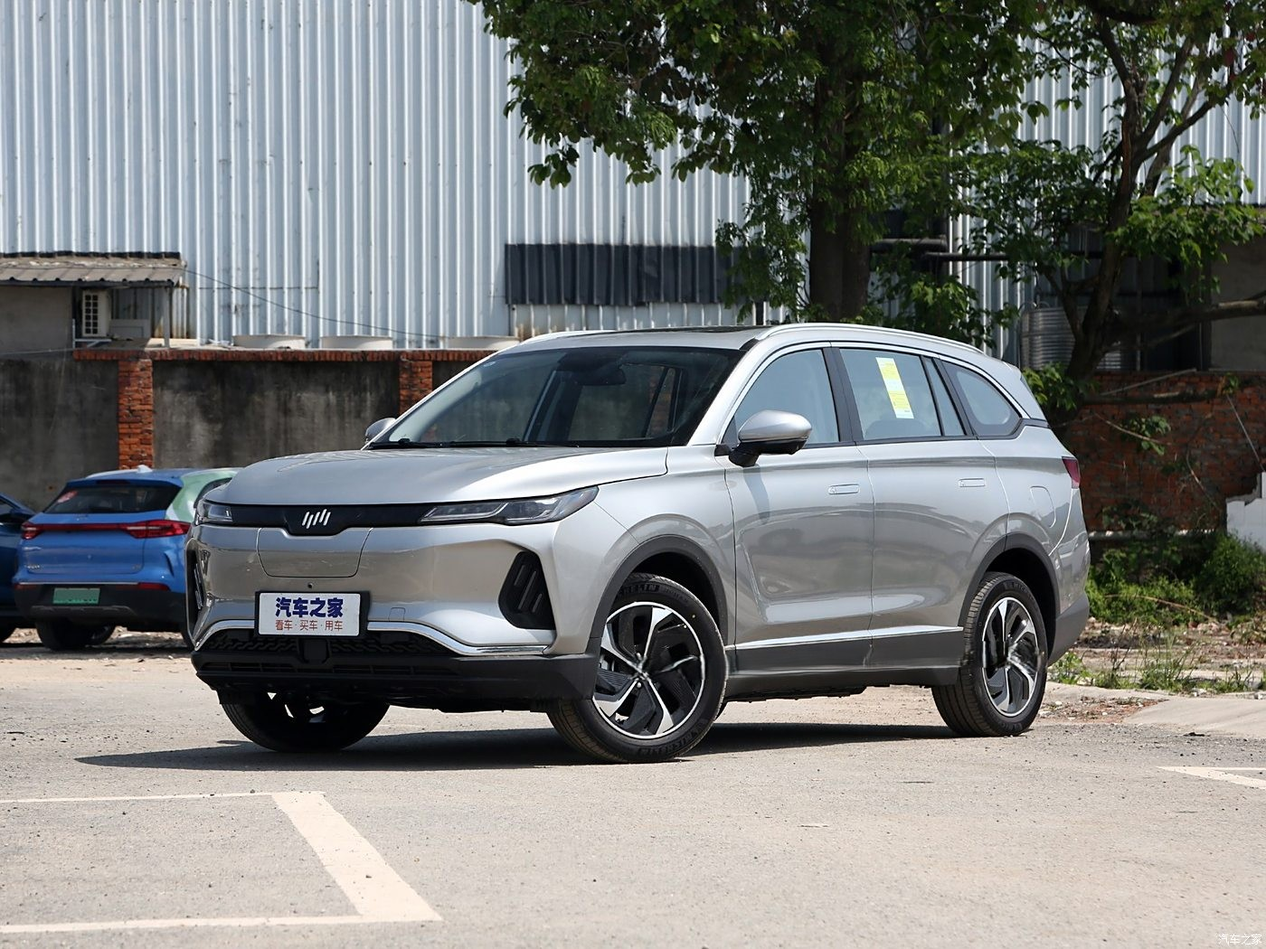WELTMEISTER: (303, 510, 330, 528)
